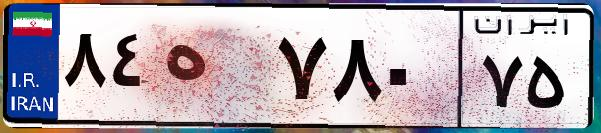0: (385, 28, 445, 110)
4: (110, 28, 158, 98)
5: (525, 38, 570, 115)
7: (270, 28, 330, 110), (475, 38, 525, 113)
8: (330, 28, 385, 110), (57, 26, 110, 100)
ه: (158, 20, 270, 120)
